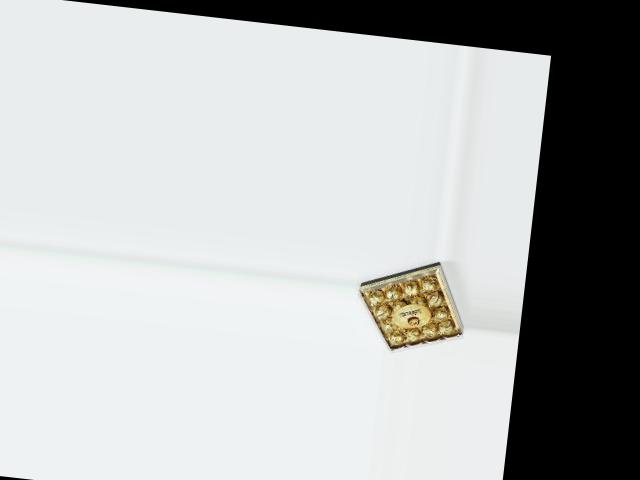chocolate: (350, 251, 472, 360)
